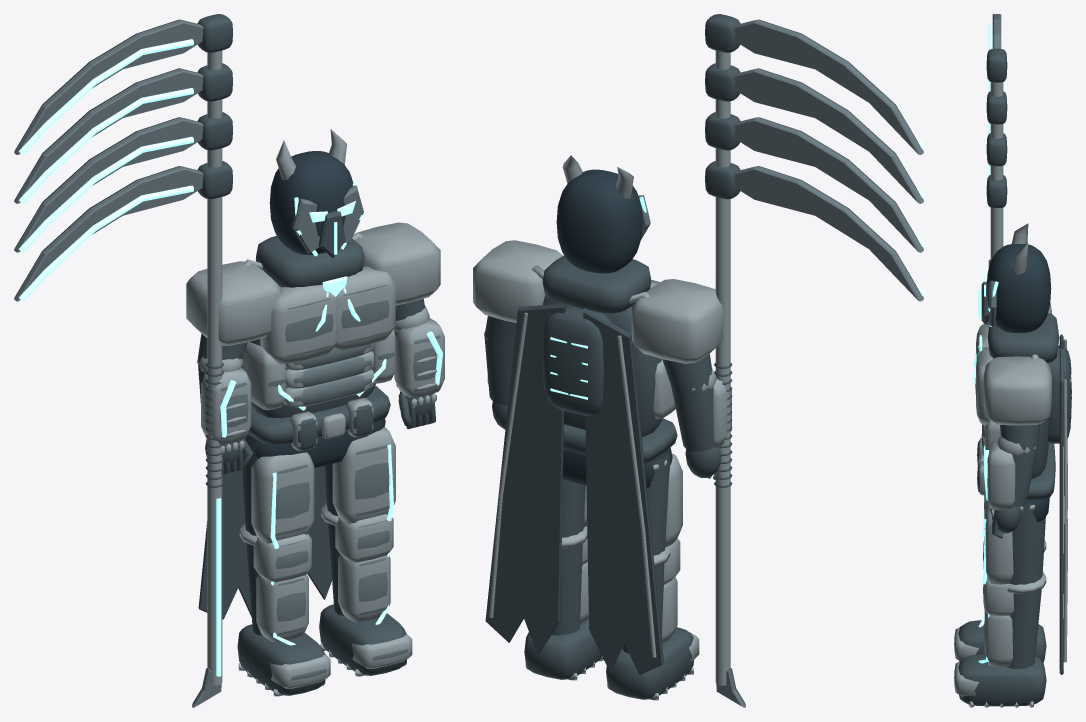
File: croxian.glb
3 renders of one model, left to right at view 1: azimuth 30°, elevation 25°; view 2: azimuth 150°, elevation 25°; view 3: azimuth 270°, elevation 25°, orthographic. The views are drawn at different scales.
Visible parts, largest first — view 1: Scythe staff, Shoulder leftArm bevel, Helmet inner shell, Shoulder rightArm bevel, Scythe blade 2, Scythe blade 3, Scythe blade 1, Scythe blade 0, Thigh leftLeg bevel, Pectoral armour -1 bevel, Torn battle cloak -1, Cowl (+44 smaller); view 2: Torn battle cloak -1, Torn battle cloak 1, Helmet inner shell, Scythe staff, Shoulder leftArm bevel, Spinal power pack, Scythe blade 2, Scythe blade 3, Scythe blade 0, Scythe blade 1, Shoulder rightArm bevel, Cowl (+20 smaller); view 3: Shoulder rightArm bevel, Helmet inner shell, Articulated leg rightLeg, Boot rightLeg, Cowl, Sleeve rightArm, Forearm rightArm bevel, Torn battle cloak 1, Thigh rightLeg bevel, Shin rightLeg bevel, Spinal power pack, Scythe staff (+23 smaller).
Boxes of the visible parts, x1,y1,x2,y2 form: Scythe staff: [207, 50, 222, 685]; Shoulder leftArm bevel: [186, 261, 282, 345]; Helmet inner shell: [269, 151, 353, 254]; Shoulder rightArm bevel: [356, 222, 440, 305]; Scythe blade 2: [14, 68, 203, 203]; Scythe blade 3: [14, 19, 203, 154]; Scythe blade 1: [14, 117, 203, 252]; Scythe blade 0: [14, 166, 203, 301]; Thigh leftLeg bevel: [251, 452, 314, 544]; Pectoral armour -1 bevel: [260, 284, 336, 364]; Torn battle cloak -1: [198, 356, 251, 619]; Cowl: [255, 236, 364, 287]; Torn battle cloak -1: [583, 308, 663, 674]; Torn battle cloak 1: [485, 303, 566, 654]; Helmet inner shell: [556, 169, 642, 273]; Scythe staff: [715, 50, 730, 685]; Shoulder leftArm bevel: [631, 279, 722, 363]; Spinal power pack: [542, 305, 610, 415]; Scythe blade 2: [734, 68, 923, 203]; Scythe blade 3: [734, 19, 923, 154]; Scythe blade 0: [734, 166, 923, 301]; Scythe blade 1: [734, 117, 923, 252]; Shoulder rightArm bevel: [473, 240, 562, 322]; Cowl: [542, 255, 651, 313]; Shoulder rightArm bevel: [983, 356, 1051, 425]; Helmet inner shell: [987, 244, 1051, 332]; Articulated leg rightLeg: [1006, 503, 1045, 669]; Boot rightLeg: [958, 654, 1046, 706]; Cowl: [987, 312, 1059, 363]; Sleeve rightArm: [1000, 424, 1040, 506]; Forearm rightArm bevel: [987, 441, 1015, 510]; Torn battle cloak 1: [1059, 349, 1063, 674]; Thigh rightLeg bevel: [984, 501, 1013, 584]; Shin rightLeg bevel: [984, 611, 1012, 666]; Spinal power pack: [1048, 345, 1071, 443]; Scythe staff: [990, 82, 1003, 258].
Size of the model in its own units: 3.66 by 5.65 by 1.02.
